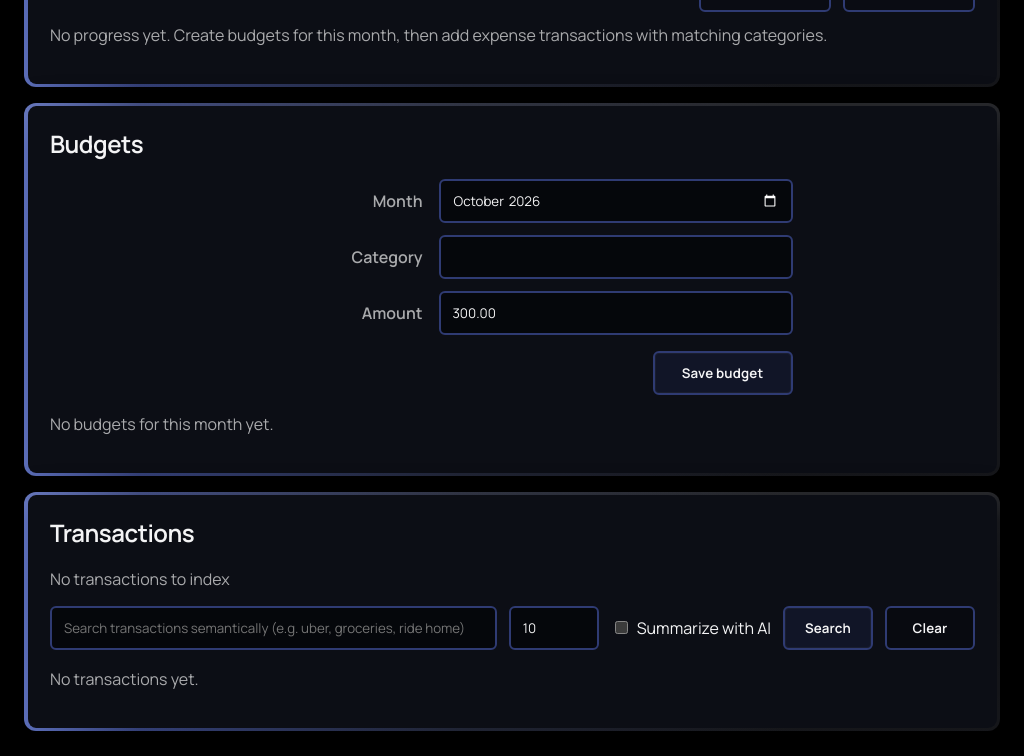
Scenario: dashboard correctness › shows budget validation beside the budget form
(page scrolled)
Click the button "Save budget" at (722, 373), box [652,351,792,395]
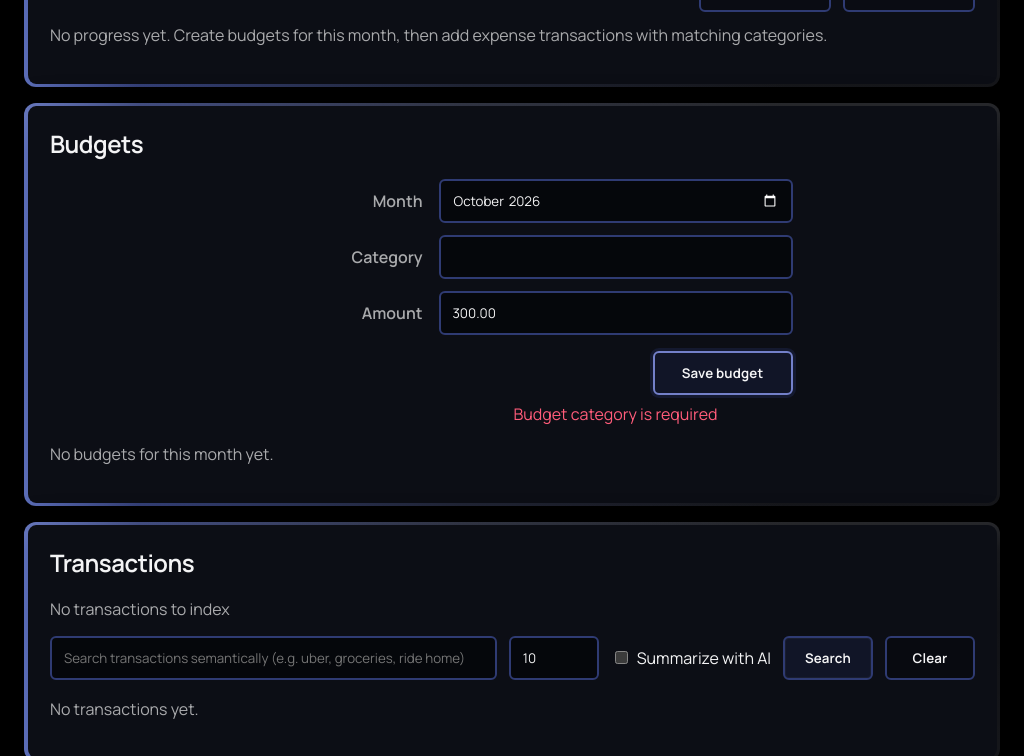
Check: the element "Budgets" is shown, box [24,103,1000,506]
Check: the message reads "Budget category is required", box [514,403,718,425]
